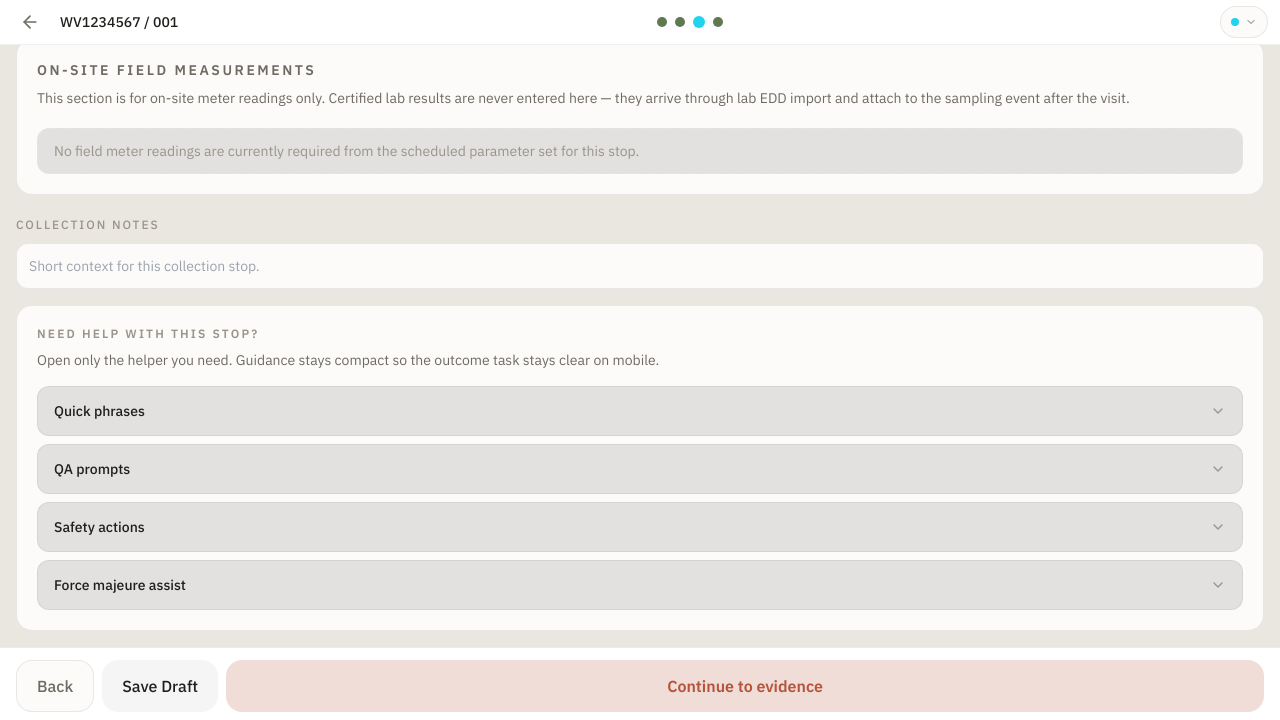
Scenario: FieldVisitPage wizard › surfaces QA prompts in the sample collection step for duplicate and special handling context
(page scrolled)
Expected: the navigation bar named "Field visit wizard progress" is shown, [657,16,741,28]
Expected: the text "Need help with this stop?" is shown, [37,326,259,341]
Click the button "QA prompts" at [92, 469], box [38,445,1242,493]
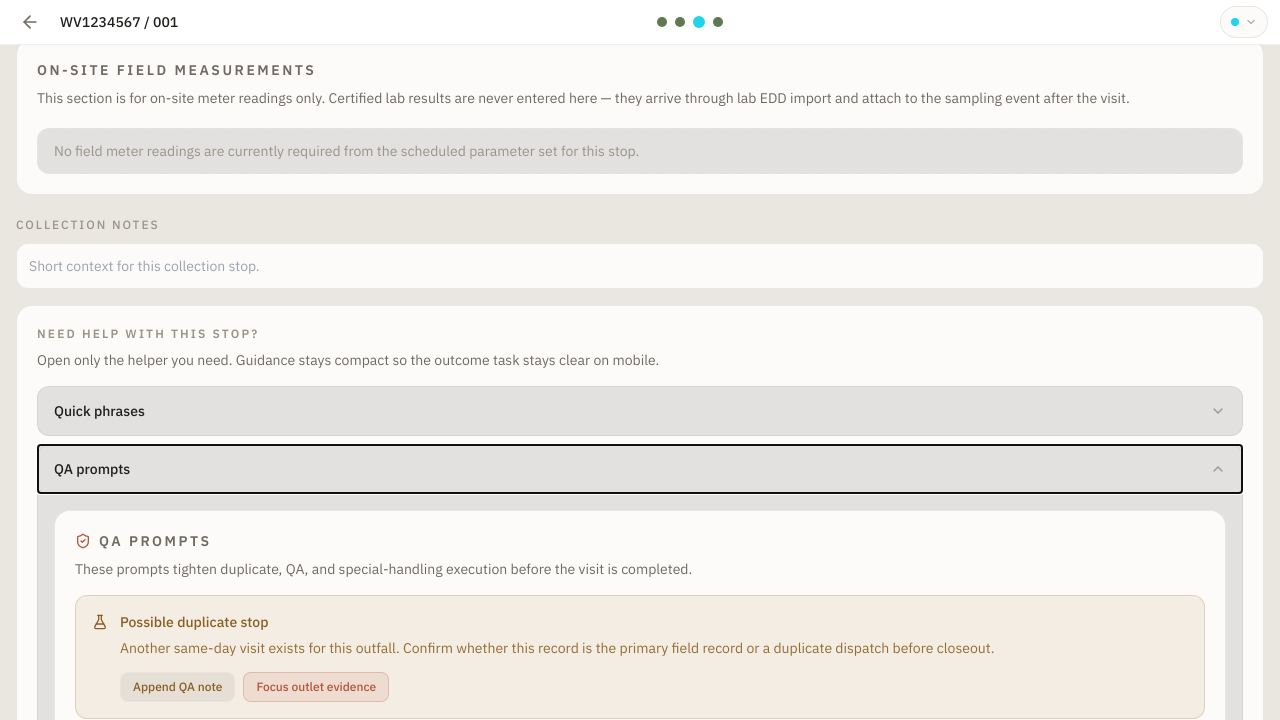
Now the button "QA prompts" is expanded, box [38,445,1242,493]
Now the text "Possible duplicate stop" is shown, box [120,613,268,631]
Click the button "Append QA note" at [178, 687], box [120,672,235,702]
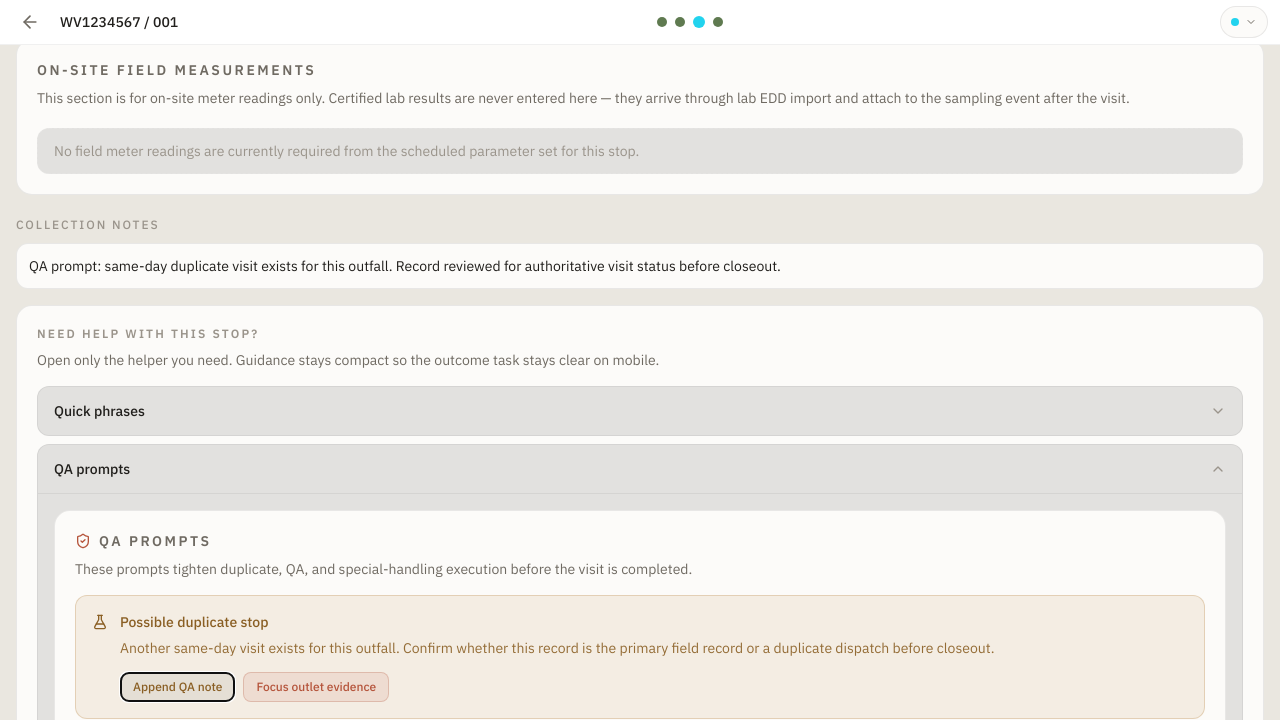
Now the field showing "QA prompt: same-day duplicate visit exists" is shown, box [16,243,1264,289]
